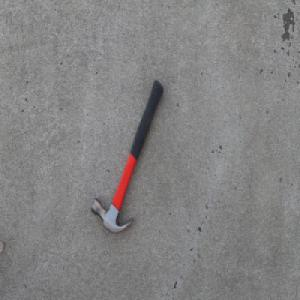Hammer: (90, 78, 164, 234)
